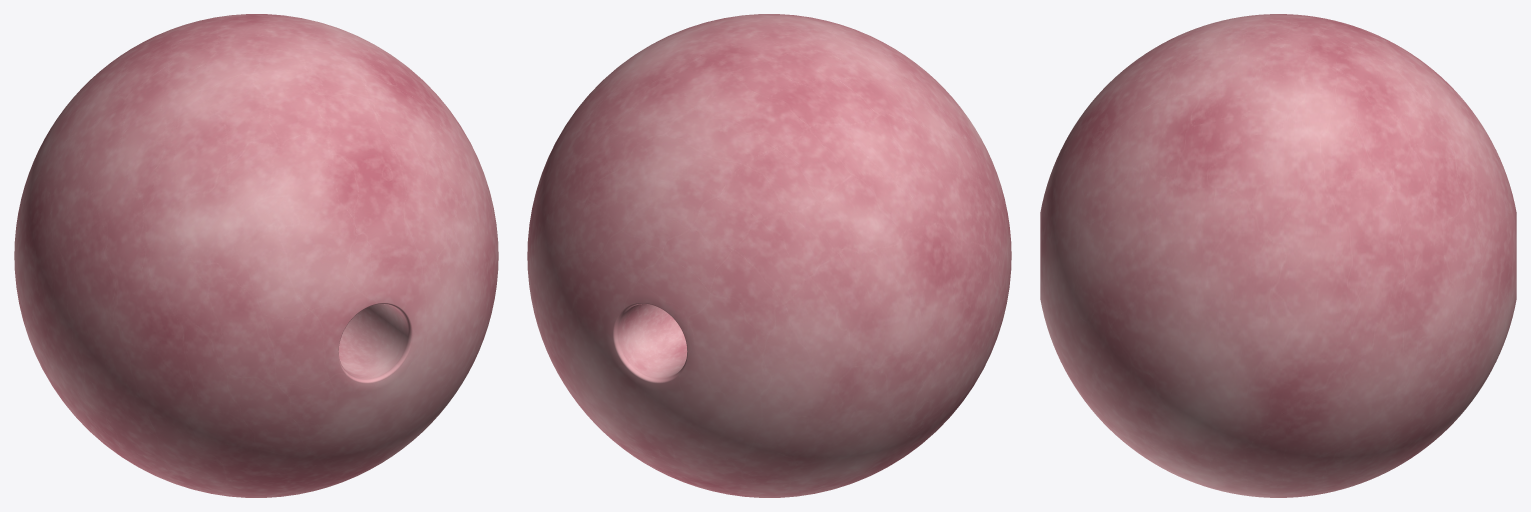
File: rose-quartz-6mm.glb
3 renders of one model, left to right at view 1: azimuth 30°, elevation 25°; view 2: azimuth 150°, elevation 25°; view 3: azimuth 270°, elevation 25°, orthographic.
Parts seen in each view (by area): view 1: rose-quartz.001; view 2: rose-quartz.001; view 3: rose-quartz.001.
Part boxes in pixels (<box>): rose-quartz.001: <box>14,14,498,497</box>; rose-quartz.001: <box>527,14,1011,497</box>; rose-quartz.001: <box>1040,14,1516,497</box>.
Bounding box in the file's own units: 0.006 × 0.006 × 0.0059.
2 materials, 1 textured.
